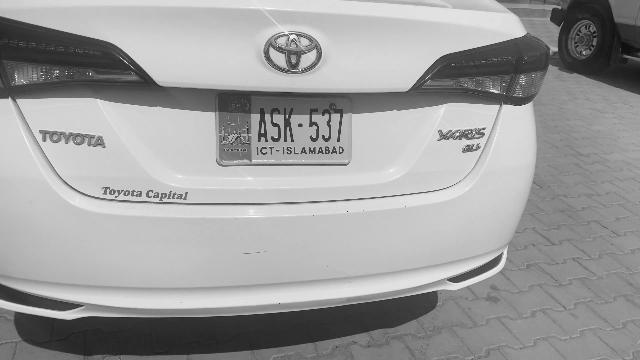Number: (254, 102, 348, 146)
